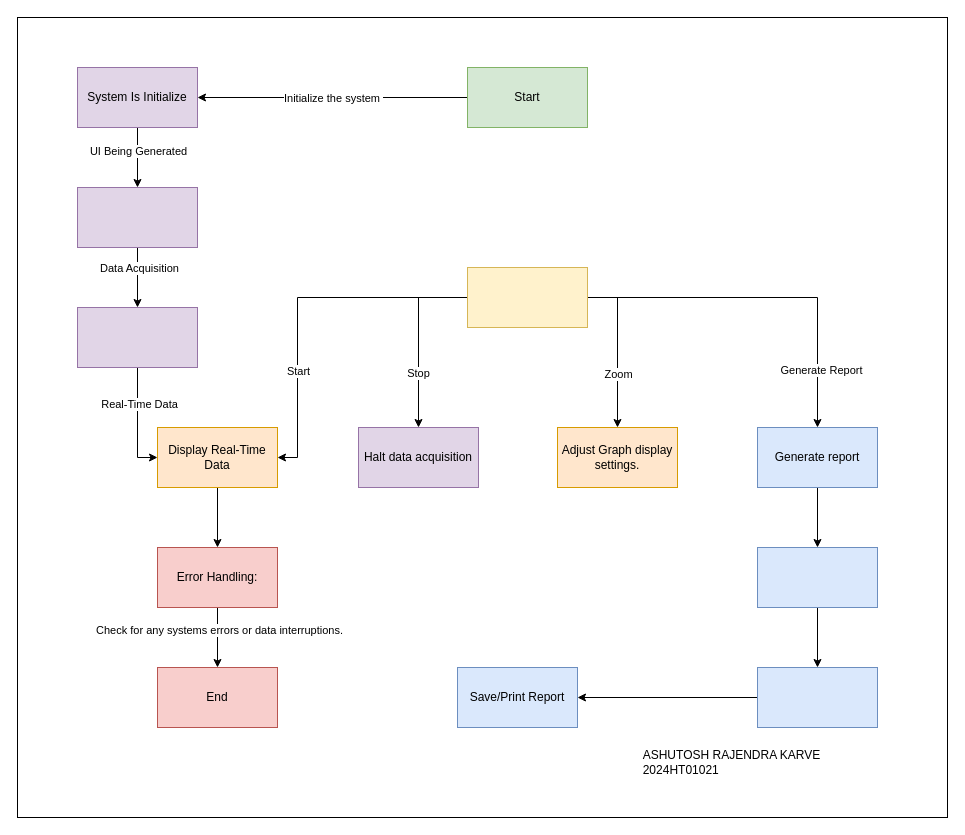
Some shapes in this 965 by 835 pixel diagram are drawn without their labels. Each missing label, with the centre of its shape:
Begin Data Acquisition: pixel 137 337
Compile Data and Patient Information: pixel 817 577
Format Report: pixel 817 697
User Command: pixel 527 297
User Enters Patient Information: pixel 137 217
